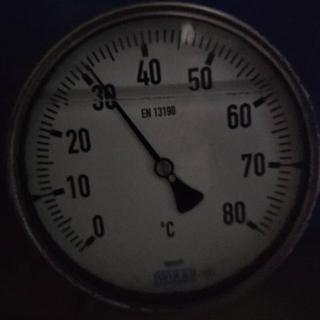gauge: (0, 0, 320, 320), (218, 197, 268, 247), (69, 211, 115, 261), (154, 156, 174, 178), (79, 58, 97, 76)
